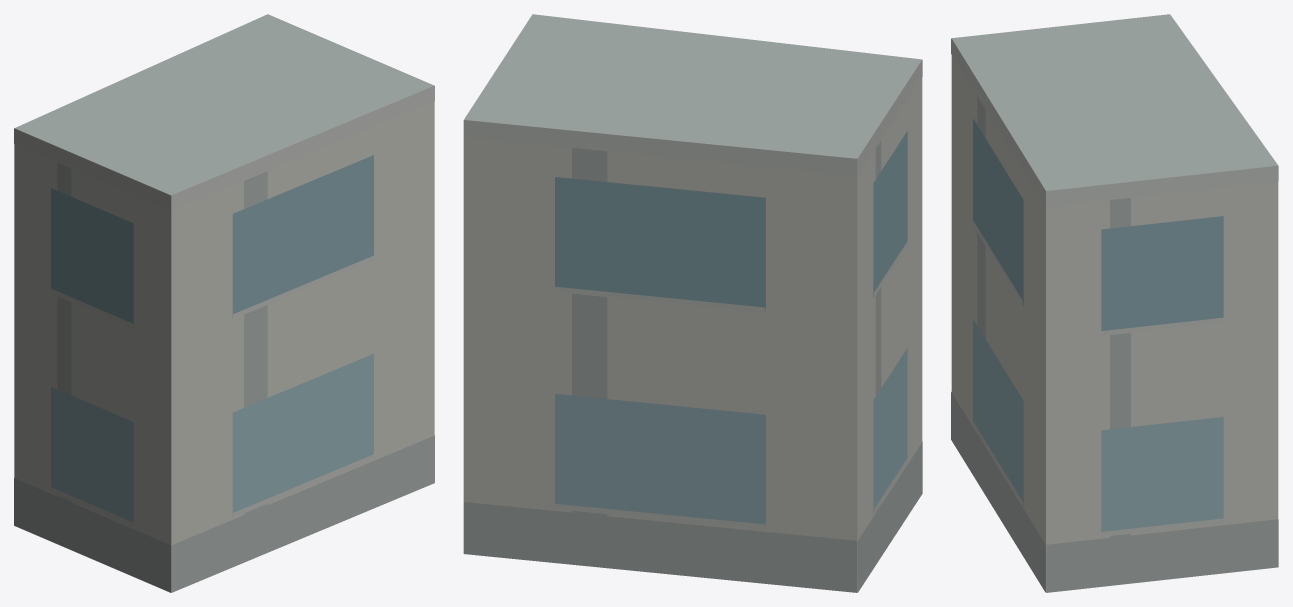
The model's file is survey-upis-32738445.glb.
The picture shows the model from 3 angles, left to right: view 1: azimuth 30°, elevation 25°; view 2: azimuth 150°, elevation 25°; view 3: azimuth 270°, elevation 25°; orthographic projection. The views are drawn at different scales.
Visible parts, largest first — view 1: survey-upis-32738445.tmp; view 2: survey-upis-32738445.tmp; view 3: survey-upis-32738445.tmp.
Part boxes in pixels (x1,y1,x2,y2): survey-upis-32738445.tmp: (14,14,434,592); survey-upis-32738445.tmp: (463,14,922,592); survey-upis-32738445.tmp: (951,14,1278,592).
Size of the model in its own units: 5.78 by 6.1 by 4.51.
